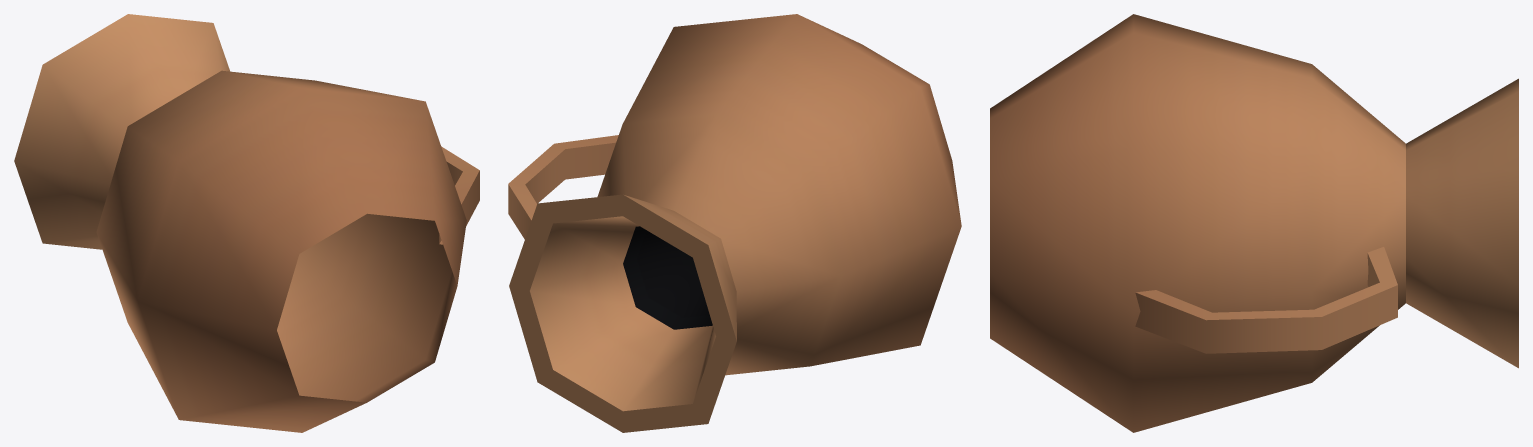
Rendered from Urn 08.FBX.
3 views of the same model, side by side, from view 1: azimuth 30°, elevation 25°; view 2: azimuth 150°, elevation 25°; view 3: azimuth 270°, elevation 25° (orthographic). The views are drawn at different scales.
Parts seen in each view (by area): view 1: Urn 08; view 2: Urn 08; view 3: Urn 08.
Part boxes in pixels (box(x1,y1,x2,y2)): Urn 08: box(14, 14, 479, 432); Urn 08: box(508, 14, 961, 432); Urn 08: box(990, 14, 1518, 432).
Size of the model in its own units: 37.25 by 32.71 by 41.15.
